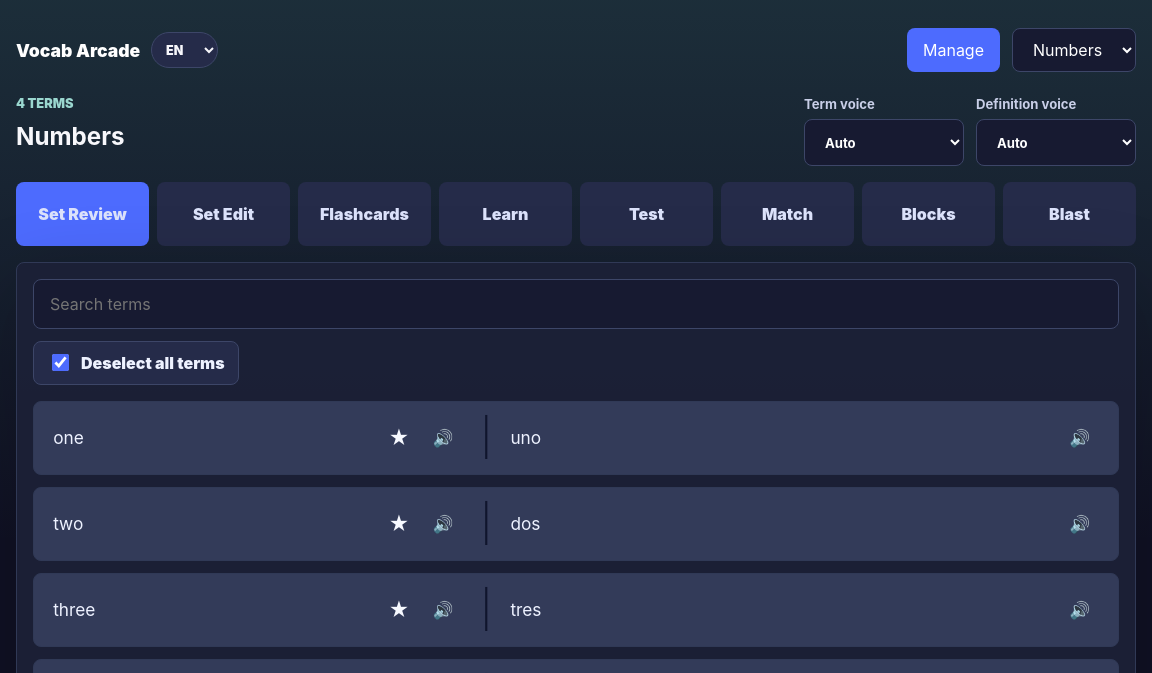
App › toggles active learning terms from Set Review and excludes inactive terms from practice
Click the button named "Active for learning. Click to exclude from exercises." at (399, 438), box [380, 418, 418, 457]
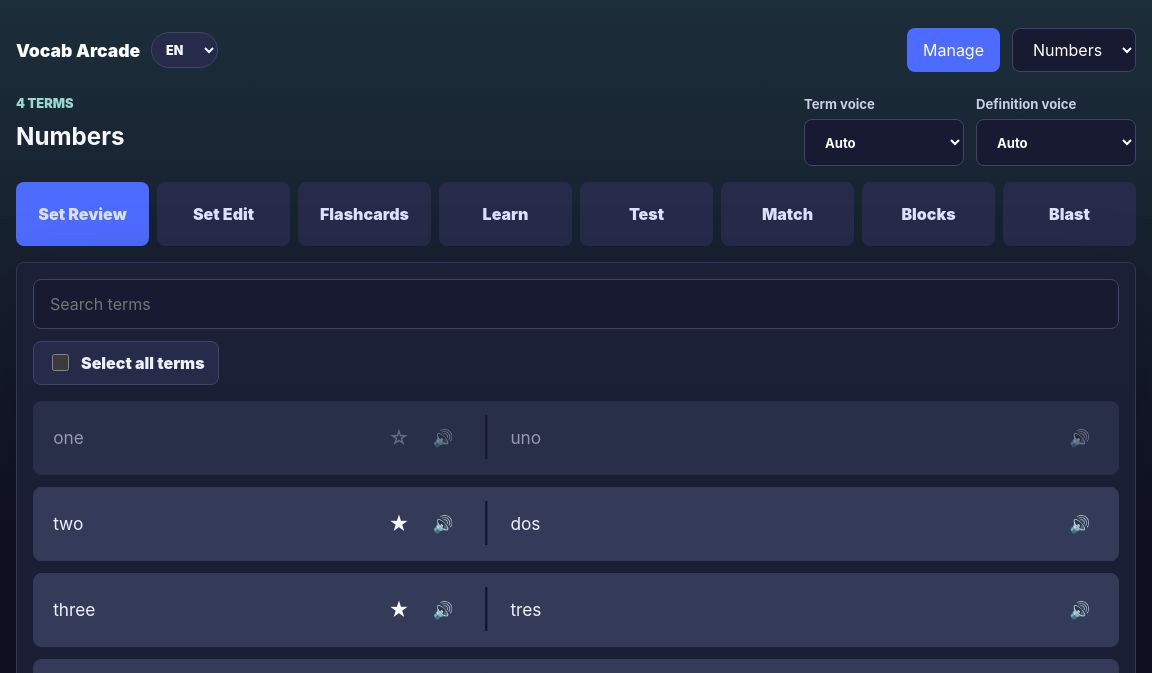
Check: the button named "Inactive for learning. Click to include in exercises." is not pressed, box [380, 418, 418, 457]
Click the tab "Flashcards" at (364, 214), box [298, 182, 431, 246]
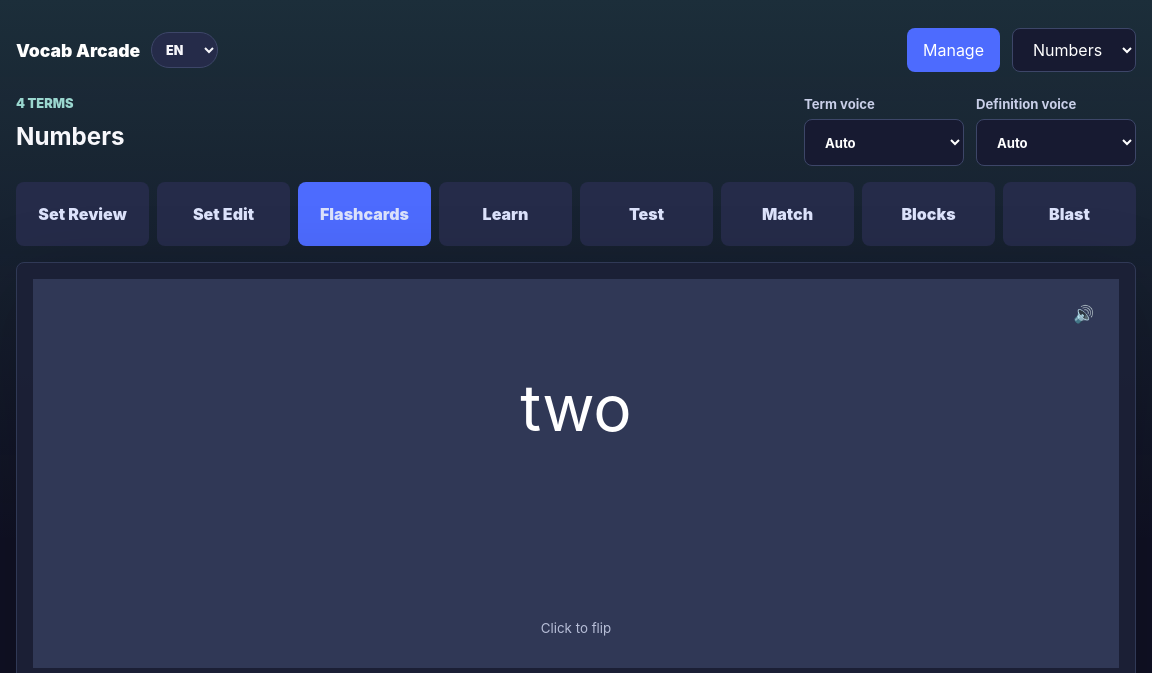
Check: the text "two" is shown, box [520, 369, 632, 446]
Check: the text "one" is gone
